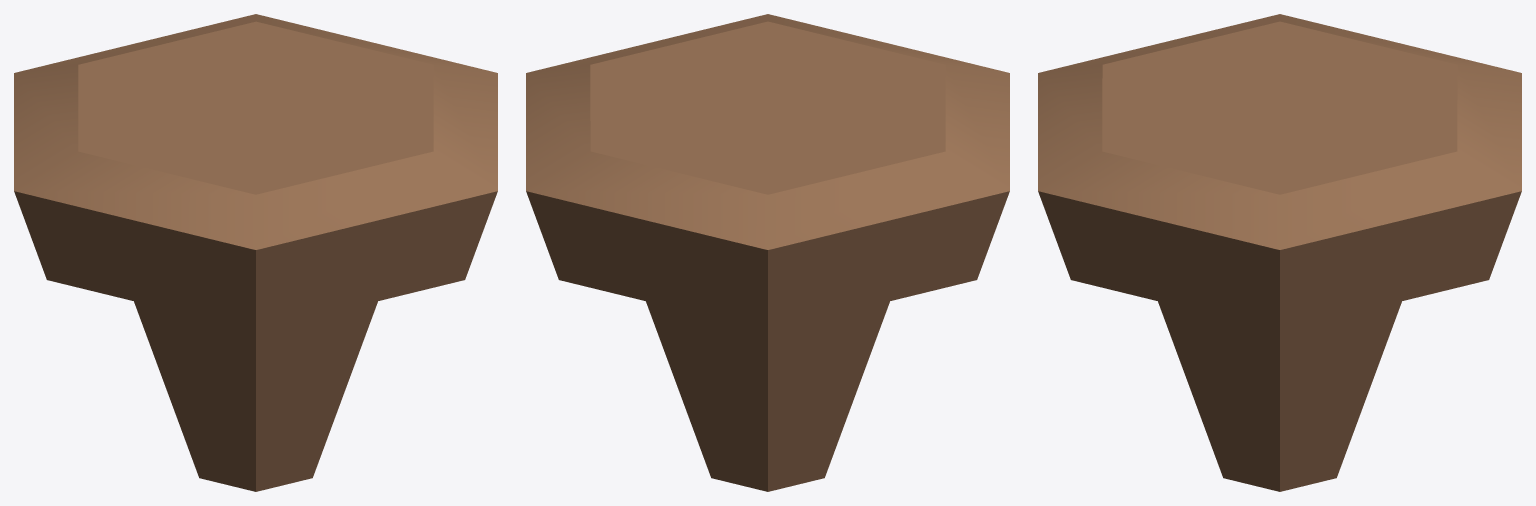
The model's file is Torch_02_Base_A.fbx.
3 renders of one model, left to right at view 1: azimuth 30°, elevation 25°; view 2: azimuth 150°, elevation 25°; view 3: azimuth 270°, elevation 25°, orthographic.
Visible parts, largest first — view 1: Torch_02_Base_A; view 2: Torch_02_Base_A; view 3: Torch_02_Base_A.
Part boxes in pixels (x1,y1,x2,y2): Torch_02_Base_A: [14, 14, 497, 491]; Torch_02_Base_A: [526, 14, 1009, 491]; Torch_02_Base_A: [1038, 14, 1521, 491].
Size of the model in its own units: 14.63 by 10.29 by 12.67.
